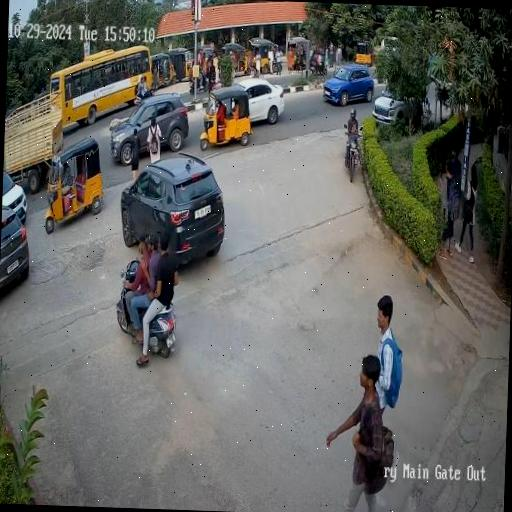helmet: (346, 104, 368, 129)
triple riding: (126, 234, 181, 316)
